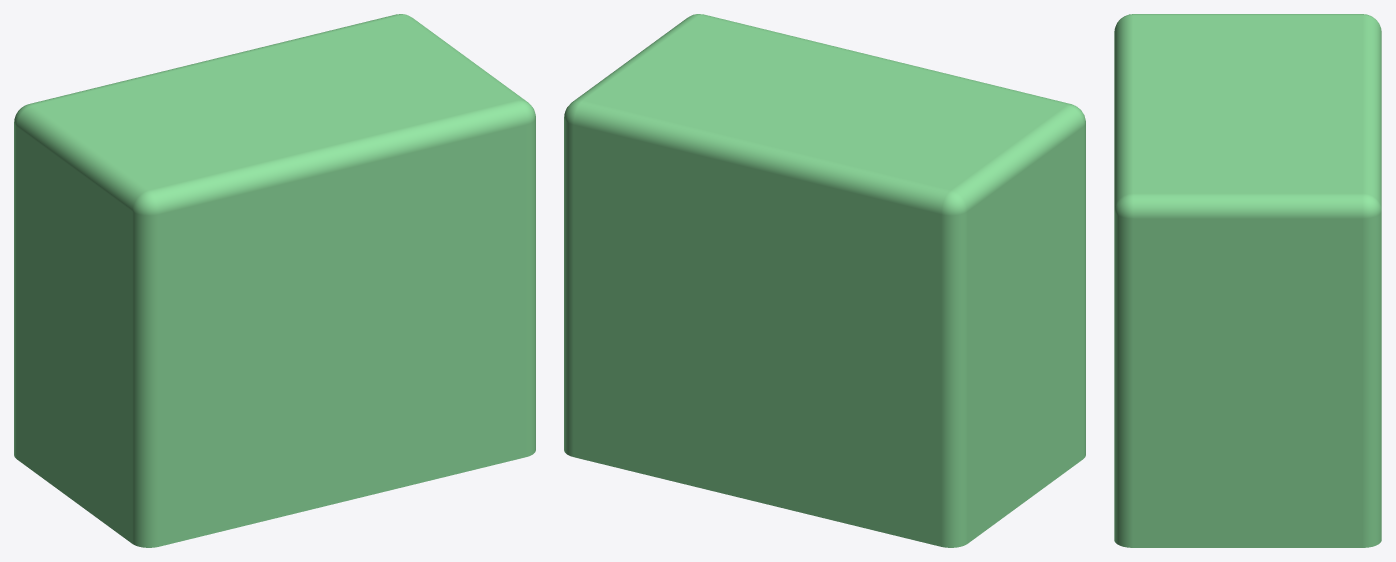
Rendered from midi_button_green.glb.
3 views of the same model, side by side, from view 1: azimuth 30°, elevation 25°; view 2: azimuth 150°, elevation 25°; view 3: azimuth 270°, elevation 25° (orthographic).
Size of the model in its own units: 0.024 by 0.02 by 0.014.
